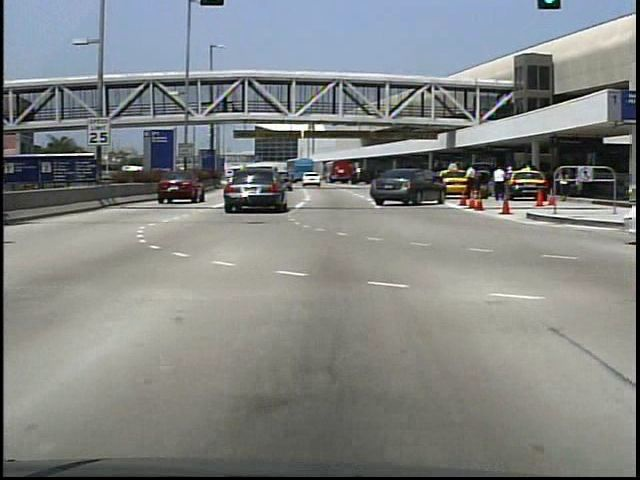person: (491, 164, 510, 203), (465, 165, 483, 205), (555, 168, 573, 205), (506, 166, 518, 201), (222, 95, 232, 115)
